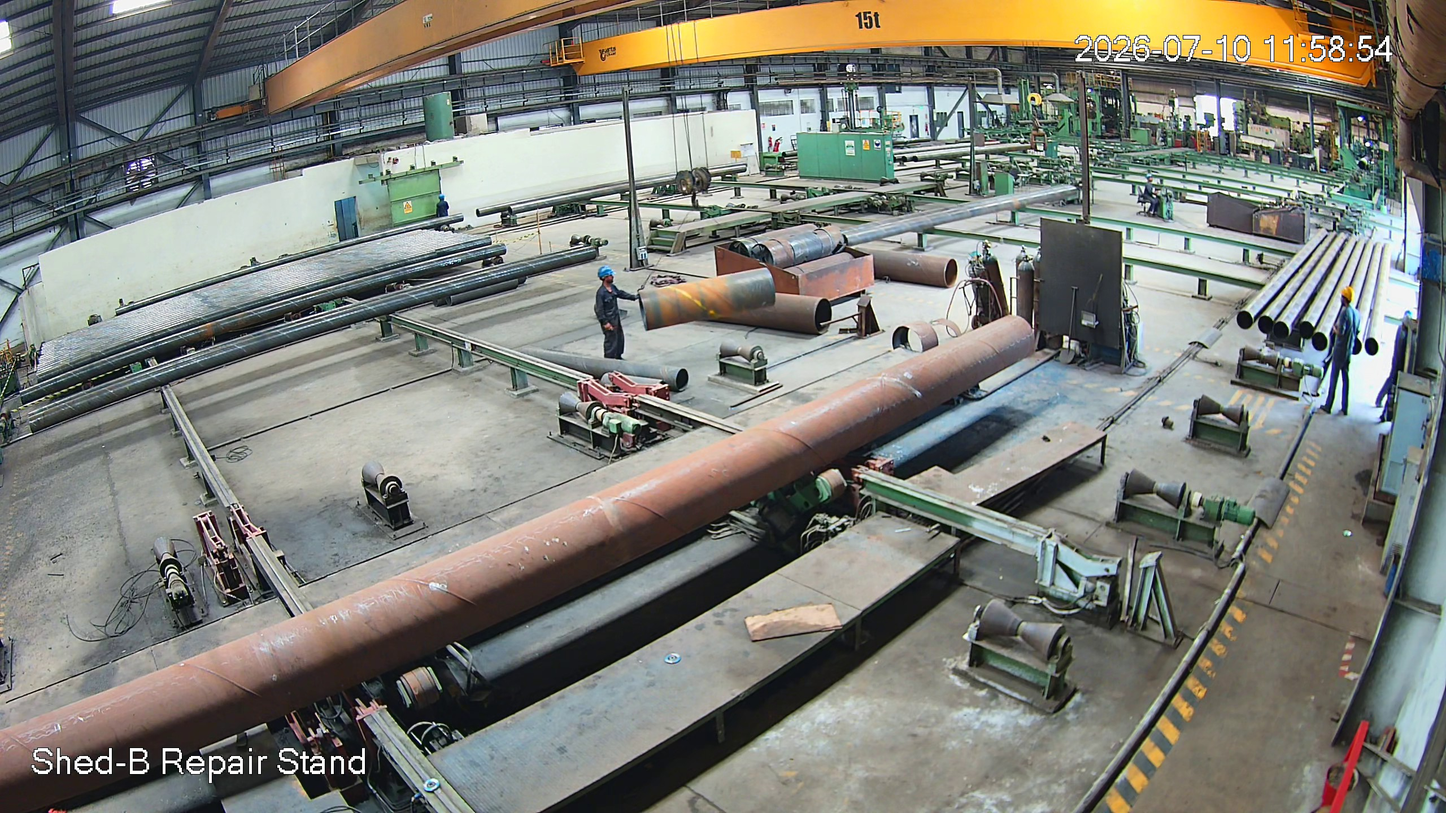Helmet: (595, 262, 618, 290), (1338, 280, 1356, 314), (437, 194, 447, 206)
Person: (1318, 283, 1364, 421), (593, 264, 623, 365), (434, 195, 450, 220)
